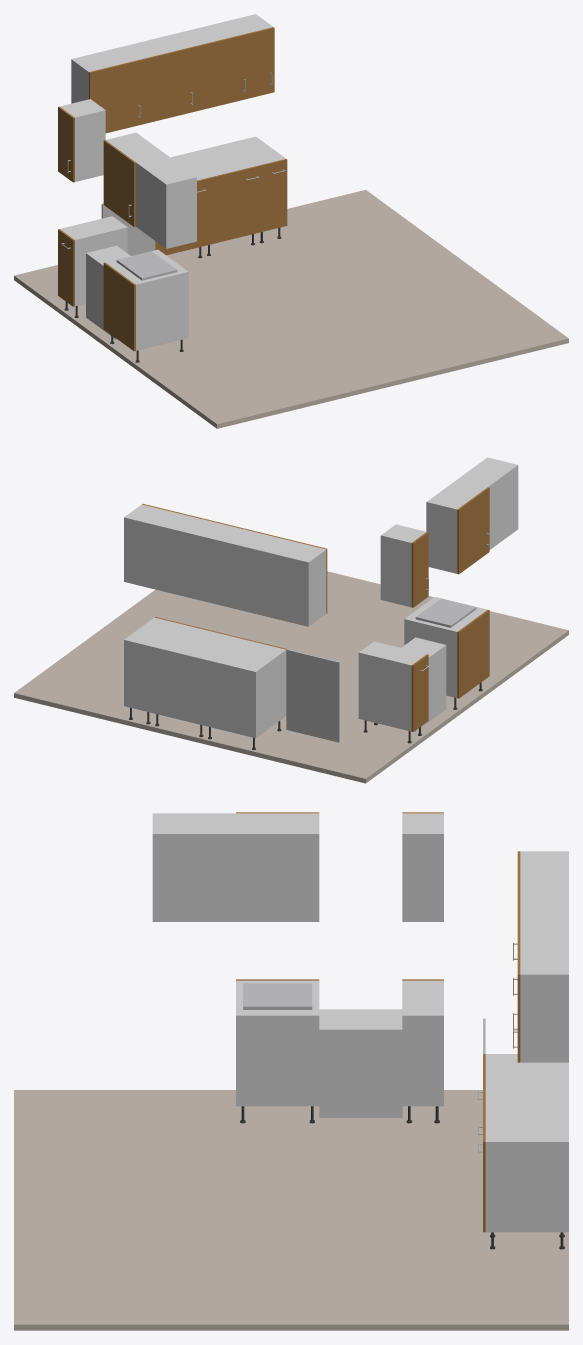
The model's file is hybrid_l_shape.glb.
The picture shows the model from 3 angles, top to bottom: view 1: azimuth 30°, elevation 25°; view 2: azimuth 150°, elevation 25°; view 3: azimuth 270°, elevation 25°; orthographic projection. The views are drawn at different scales.
Visible parts, largest first — view 1: world; view 2: world; view 3: world.
Boxes of the visible parts, x1,y1,x2,y2 form: world: [14, 14, 568, 428]; world: [14, 457, 568, 783]; world: [14, 812, 568, 1330].
Bounding box in the file's own units: 405 × 225 × 400.
